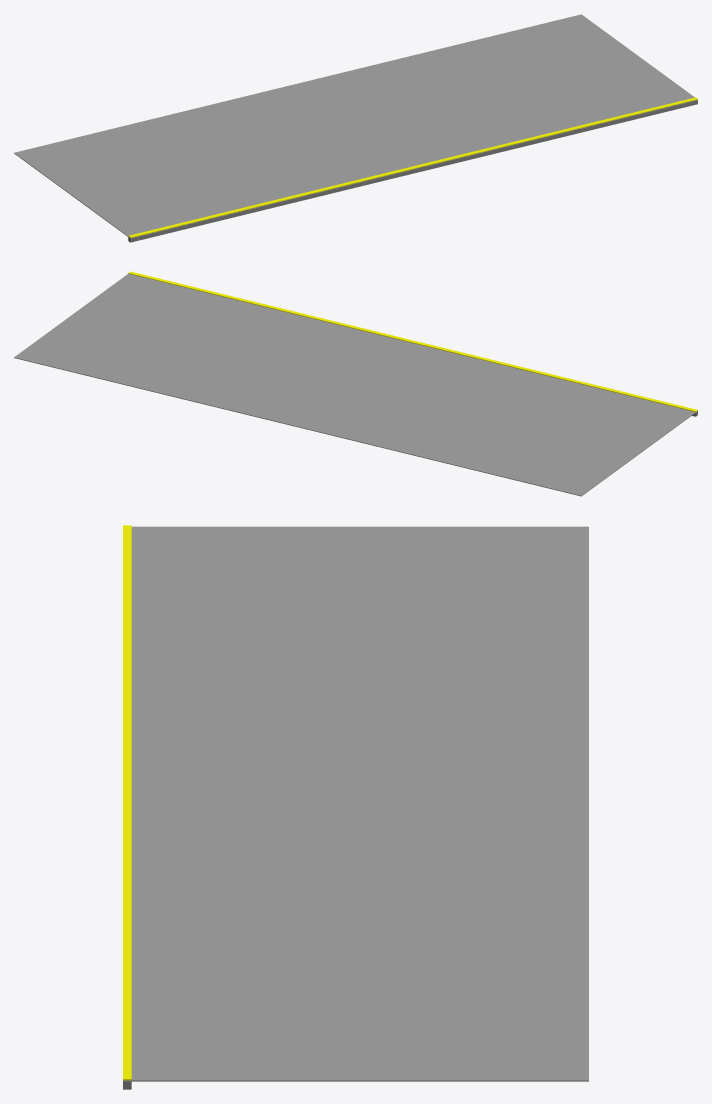
Rendered from Bảng hiệu alu chữ nổi 450 x 160.obj.
3 renders of one model, top to bottom at view 1: azimuth 30°, elevation 25°; view 2: azimuth 150°, elevation 25°; view 3: azimuth 270°, elevation 25°, orthographic. The views are drawn at different scales.
Visible parts, largest first — view 1: bang_hieu_alu_chu_noi_450_x_160; view 2: bang_hieu_alu_chu_noi_450_x_160; view 3: bang_hieu_alu_chu_noi_450_x_160.
Part boxes in pixels (box(x1,y1,x2,y2)): bang_hieu_alu_chu_noi_450_x_160: box(14, 14, 697, 242); bang_hieu_alu_chu_noi_450_x_160: box(14, 271, 697, 496); bang_hieu_alu_chu_noi_450_x_160: box(123, 525, 588, 1089).
Size of the model in its own units: 4.5 by 0.04 by 1.6.
